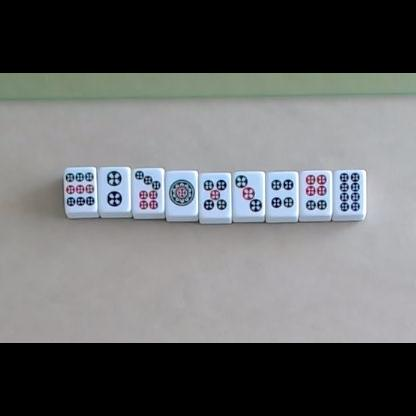1p: (168, 179, 196, 207)
2p: (107, 170, 123, 207)
3p: (234, 174, 264, 213)
4p: (270, 178, 295, 209)
5p: (203, 179, 229, 211)
6p: (305, 173, 328, 211)
7p: (134, 170, 162, 211)
8p: (338, 171, 361, 213)
9p: (65, 171, 96, 208)
